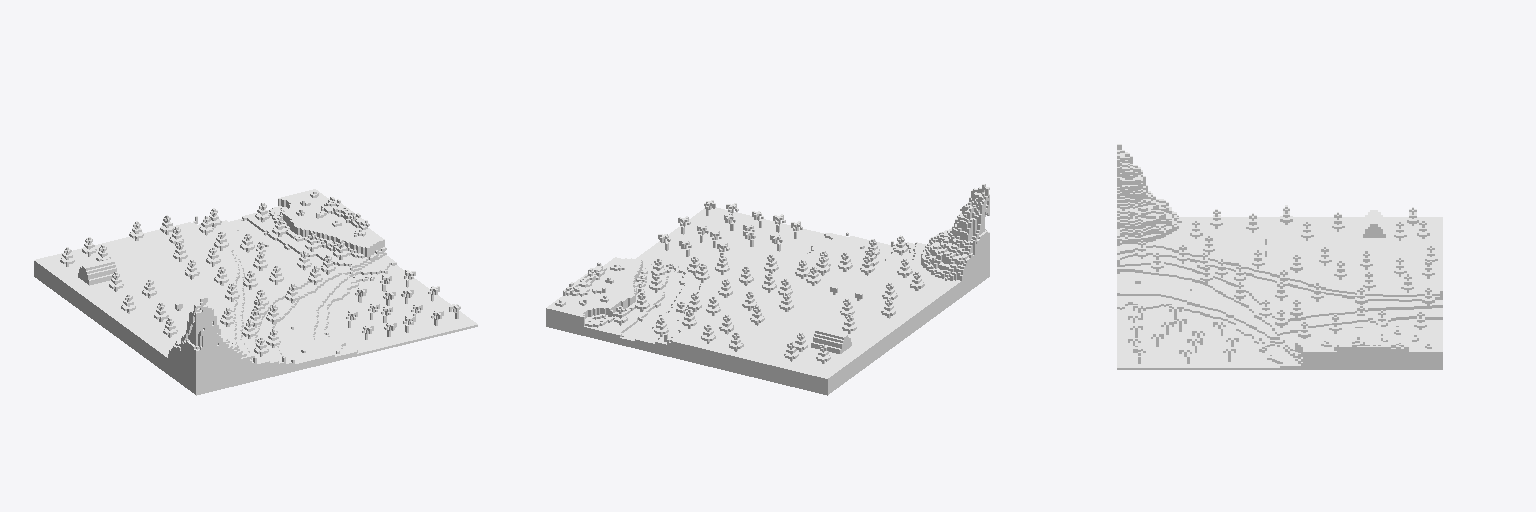
Rendered from Airfield.obj.
3 views of the same model, side by side, from view 1: azimuth 30°, elevation 25°; view 2: azimuth 150°, elevation 25°; view 3: azimuth 270°, elevation 25° (orthographic).
Size of the model in its own units: 126 by 39 by 126.